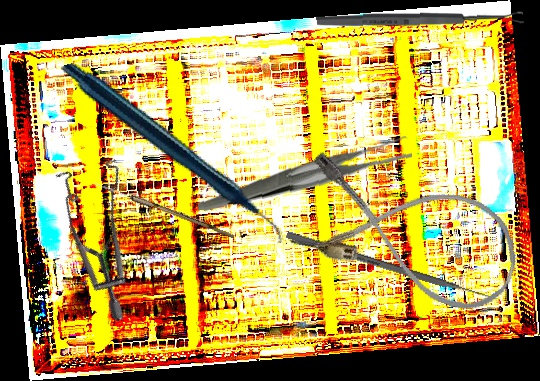Cannula: (283, 143, 533, 323)
Dressing Forceps: (197, 129, 413, 218)
Handpiece: (60, 20, 285, 288)
Pusher: (285, 231, 505, 305)
Speculum: (20, 139, 197, 324)
Surgical Spoon: (92, 180, 236, 239), (316, 10, 524, 29)
